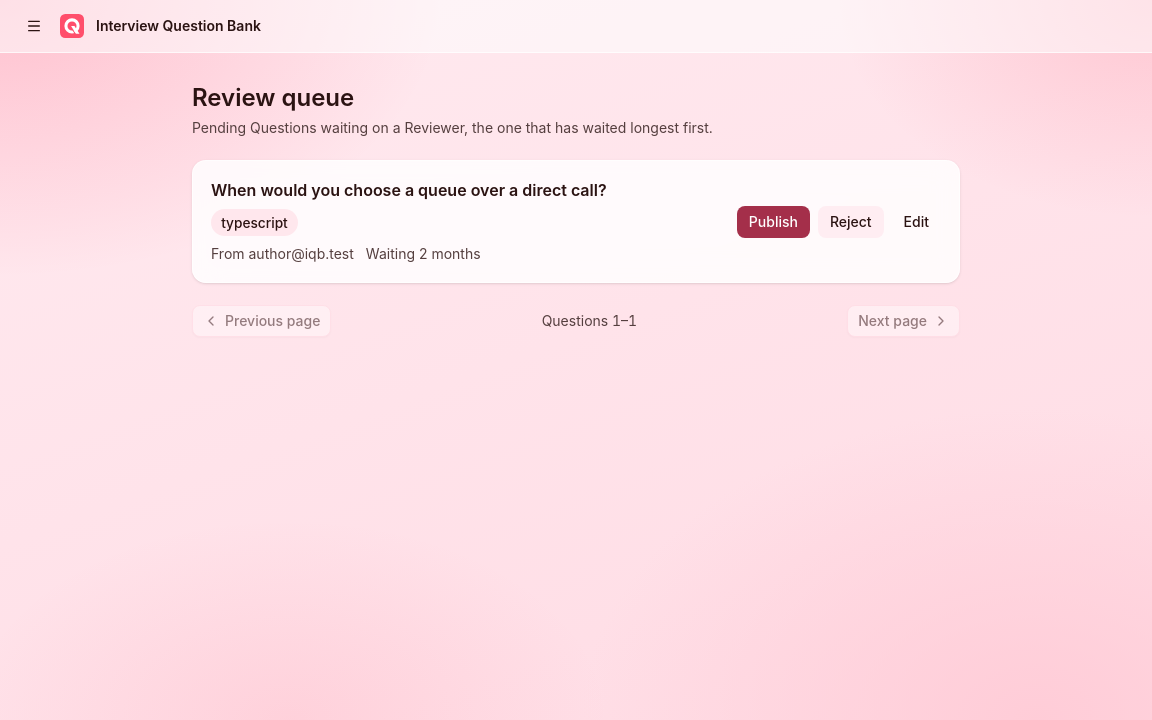
Test: rejecting from the review queue › puts a reason the API refused on its field
Click the button "Reject": (851, 222) [818, 206, 884, 238]
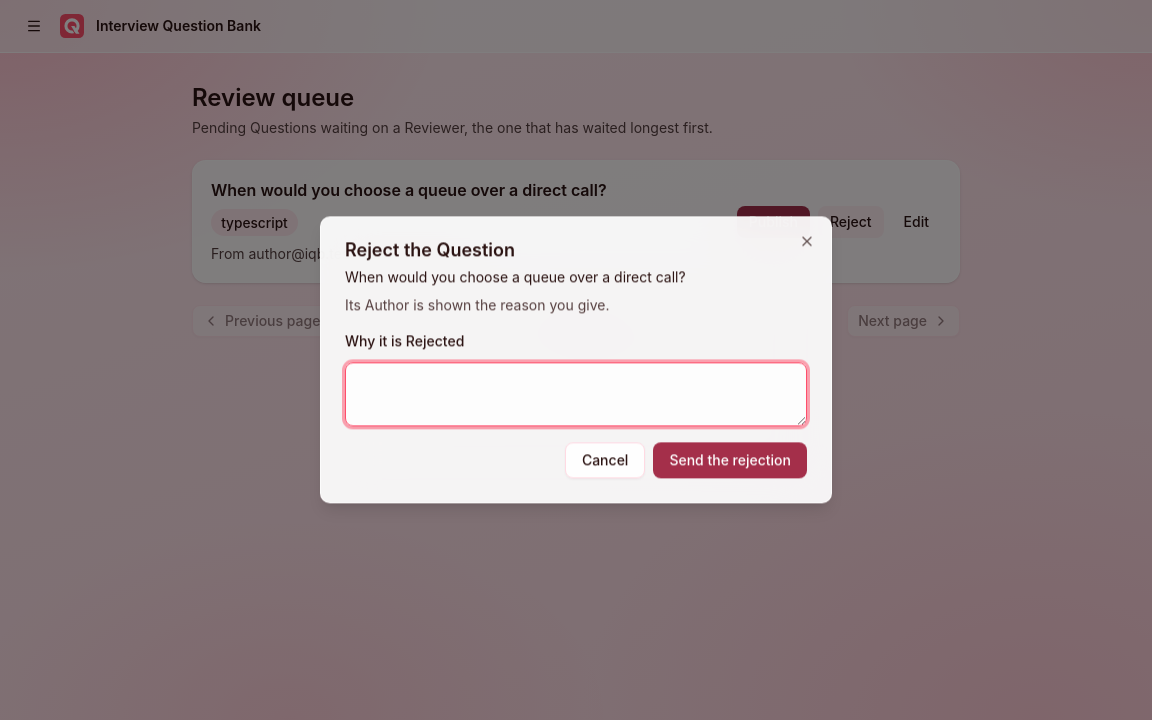
In the text box labelled "Why it is Rejected": (576, 395) [345, 363, 807, 427], type "Not for us."
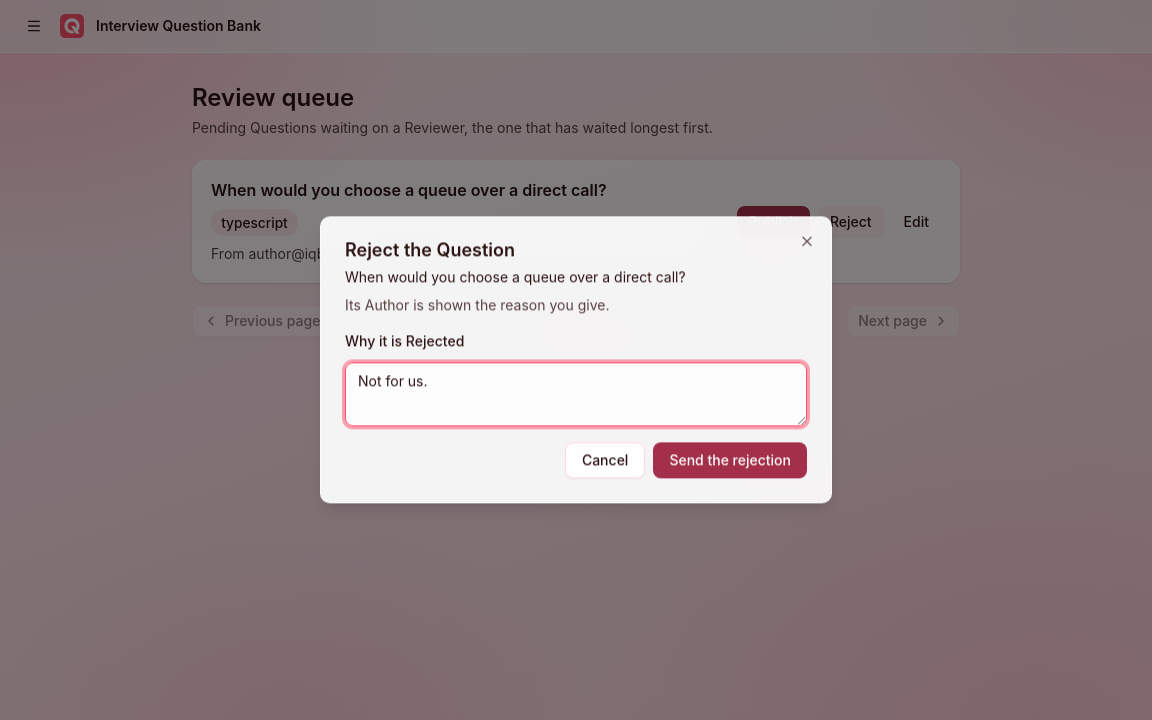
Click the button "Send the rejection": (730, 461) [653, 443, 807, 479]
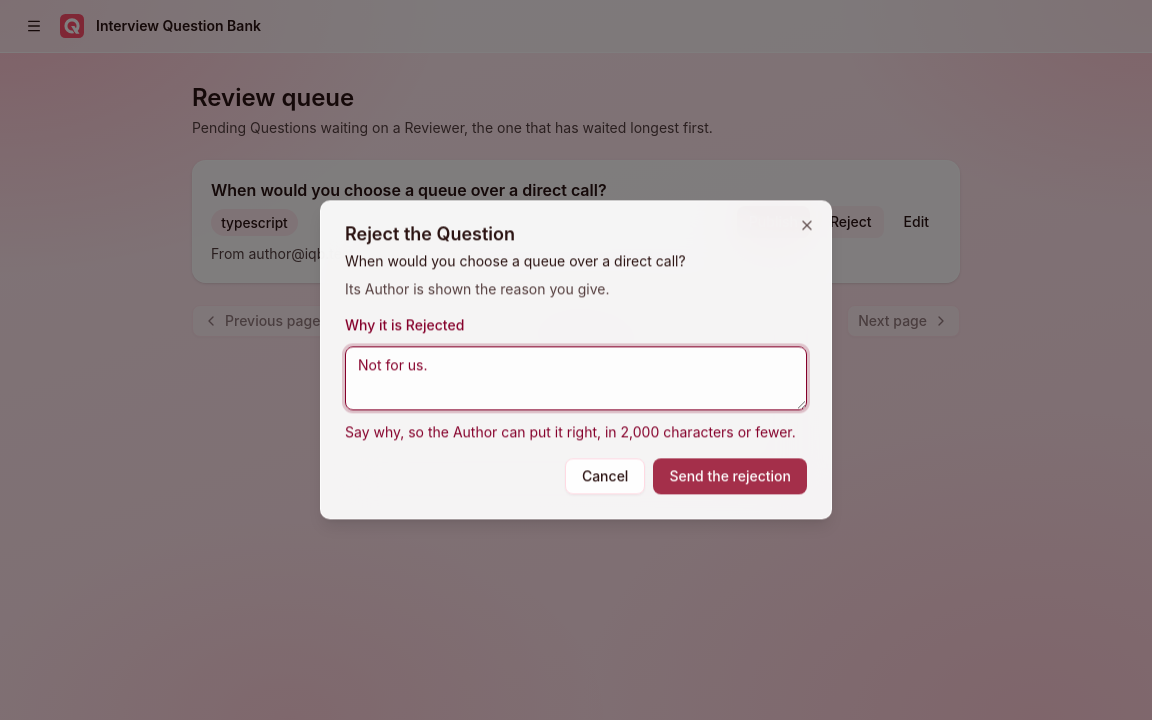
expect the text "Say why, so the Author can put it right, in 2,000 characters or fewer." is shown: met, box [345, 423, 807, 443]
